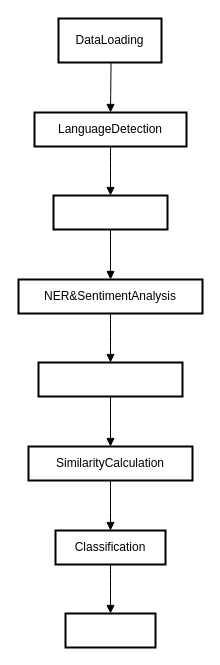
Some shapes in this 220 by 665 pixel diagram are drawn without their labels. The centre of each missing label's shape, as x and y in pixels:
"Evaluation" belongs at [110,630].
"FeatureExtraction" belongs at [110,379].
"Preprocessing" belongs at [110,212].
